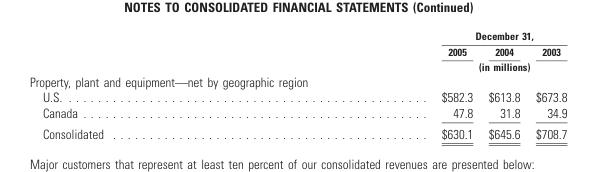table: (28, 29, 566, 140)
table column: (28, 29, 271, 140), (271, 29, 480, 140), (480, 29, 527, 140), (527, 29, 566, 140)
table column header: (28, 29, 566, 73)
table projected row header: (28, 73, 566, 89)
table row: (28, 104, 566, 122), (28, 122, 566, 140), (28, 73, 566, 89), (28, 43, 566, 58), (28, 58, 566, 73), (28, 89, 566, 104), (28, 29, 566, 43)
table spanning cell: (271, 58, 566, 73), (271, 29, 566, 43)
